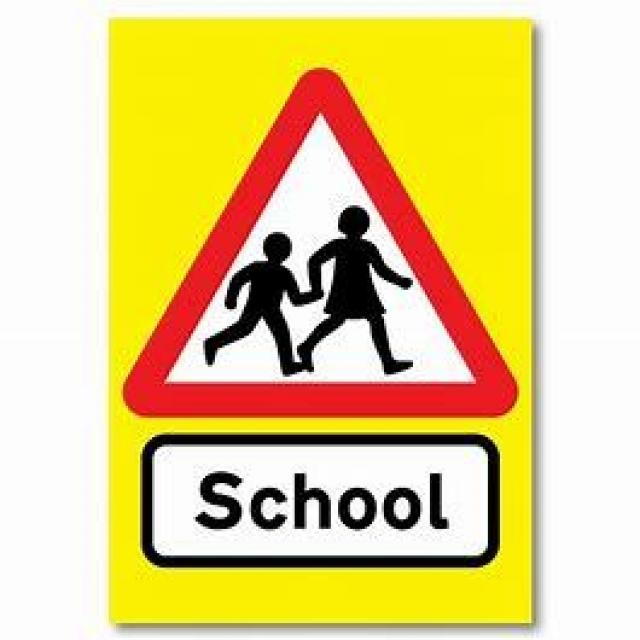SCHOOL_AHEAD: (123, 65, 517, 418)
